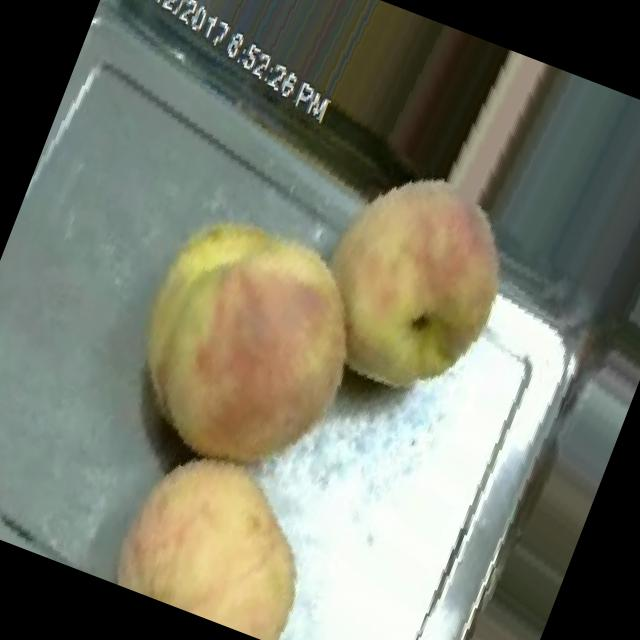Fruit: (68, 152, 419, 524), (268, 132, 546, 430), (76, 407, 349, 640)
